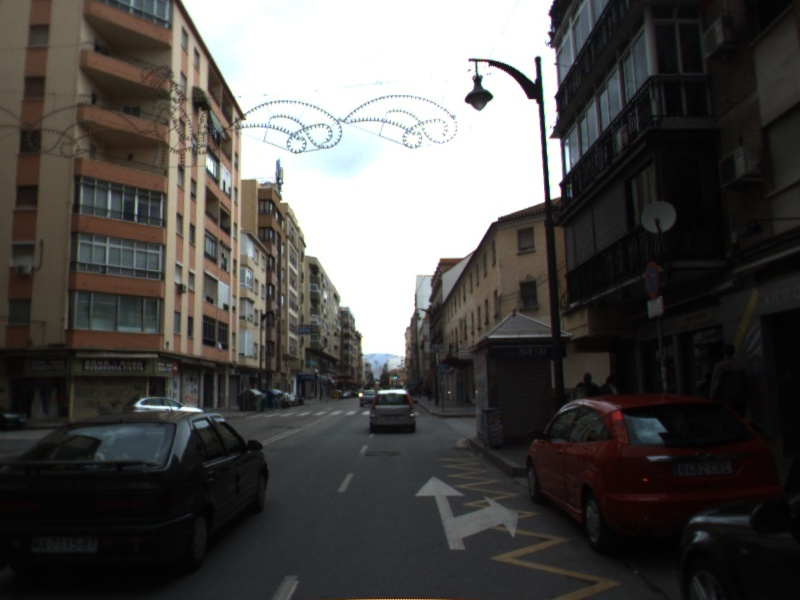STRAIGHT_RIGHT: (413, 474, 521, 552)
